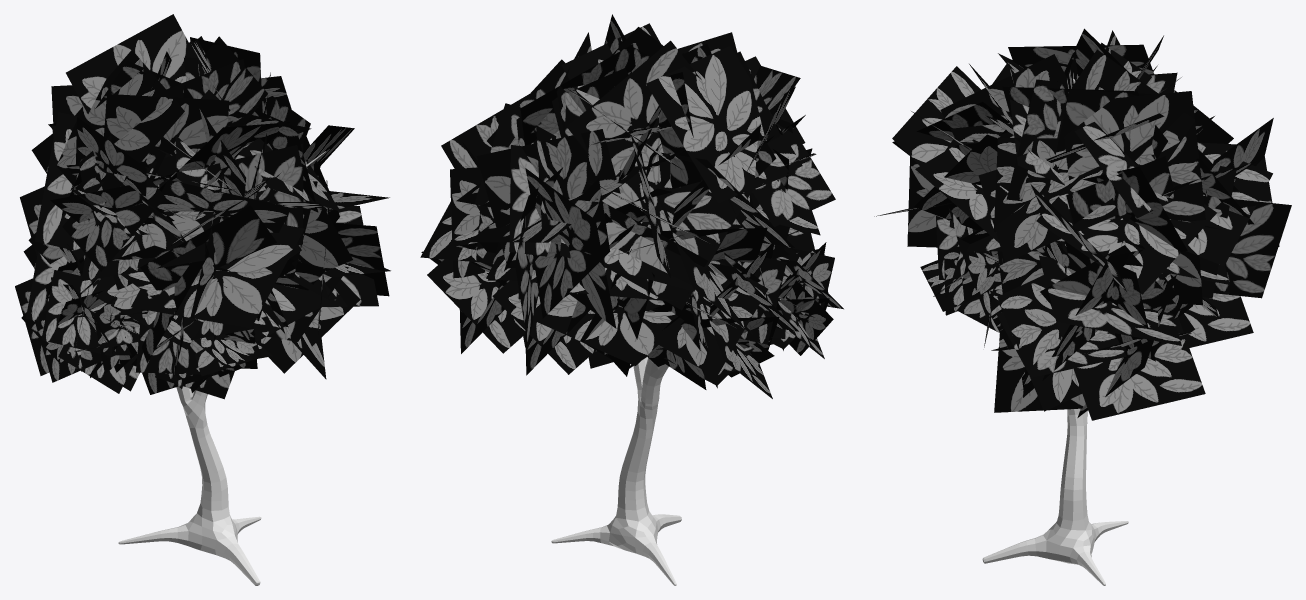
Rendered from Tree.fbx.
The picture shows the model from 3 angles, left to right: view 1: azimuth 30°, elevation 25°; view 2: azimuth 150°, elevation 25°; view 3: azimuth 270°, elevation 25°; orthographic projection. The views are drawn at different scales.
Parts seen in each view (by area): view 1: Tree; view 2: Tree; view 3: Tree.
Part boxes in pixels (x1,y1,x2,y2): Tree: [15, 14, 390, 585]; Tree: [420, 14, 843, 585]; Tree: [874, 28, 1291, 585].
Size of the model in its own units: 226 by 308 by 227.
